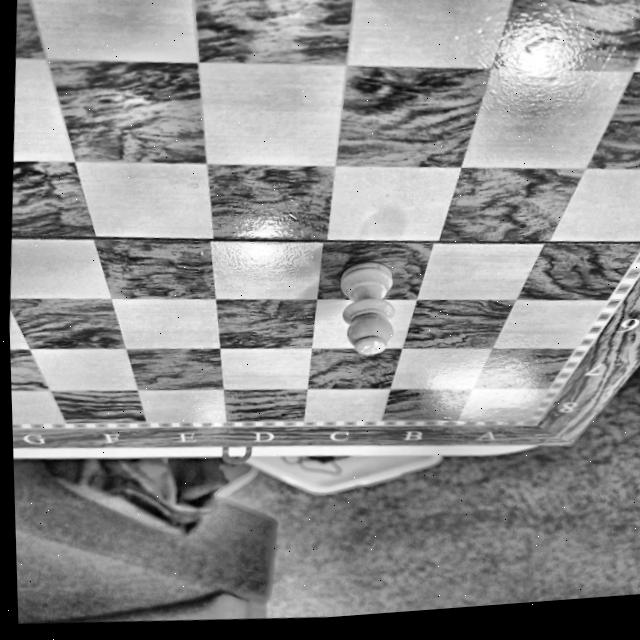white-bishop: (340, 261, 394, 354)
